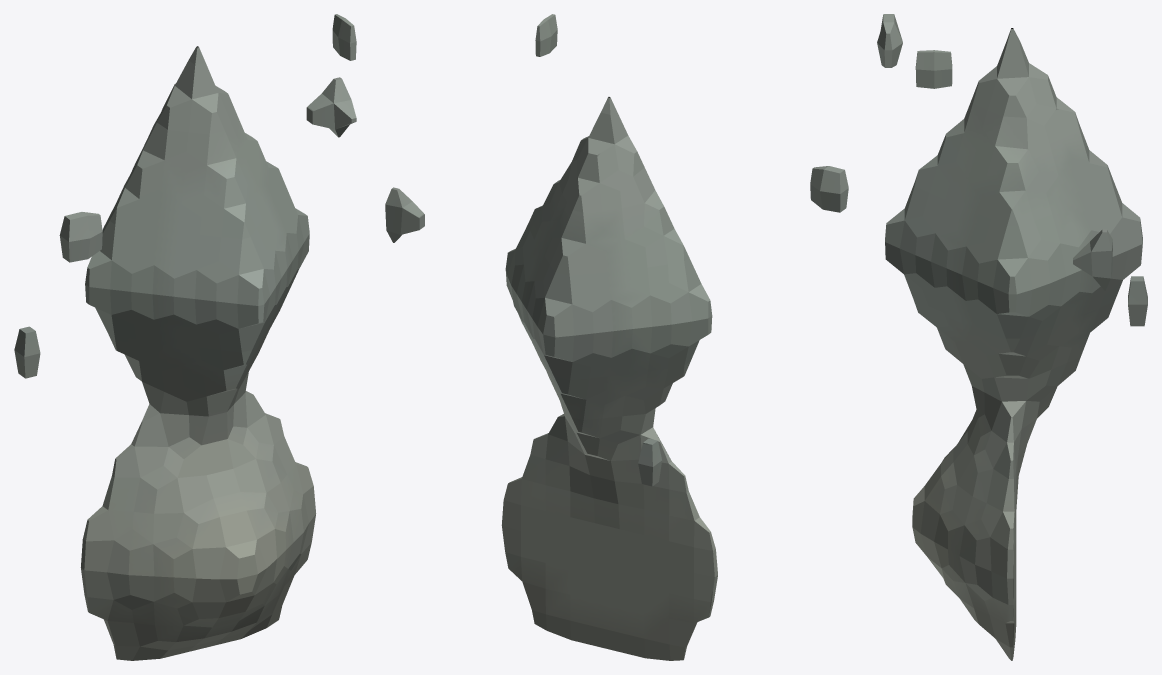
File: elementalKing.glb
The picture shows the model from 3 angles, left to right: view 1: azimuth 30°, elevation 25°; view 2: azimuth 150°, elevation 25°; view 3: azimuth 270°, elevation 25°; orthographic projection. The views are drawn at different scales.
Visible parts, largest first — view 1: geometry_0; view 2: geometry_0; view 3: geometry_0.
Part boxes in pixels (x1,y1,x2,y2): geometry_0: (14, 14, 356, 660); geometry_0: (385, 14, 848, 660); geometry_0: (877, 14, 1147, 660).
Size of the model in its own units: 0.6023 by 0.9325 by 0.3635.
1 material, 1 textured.
